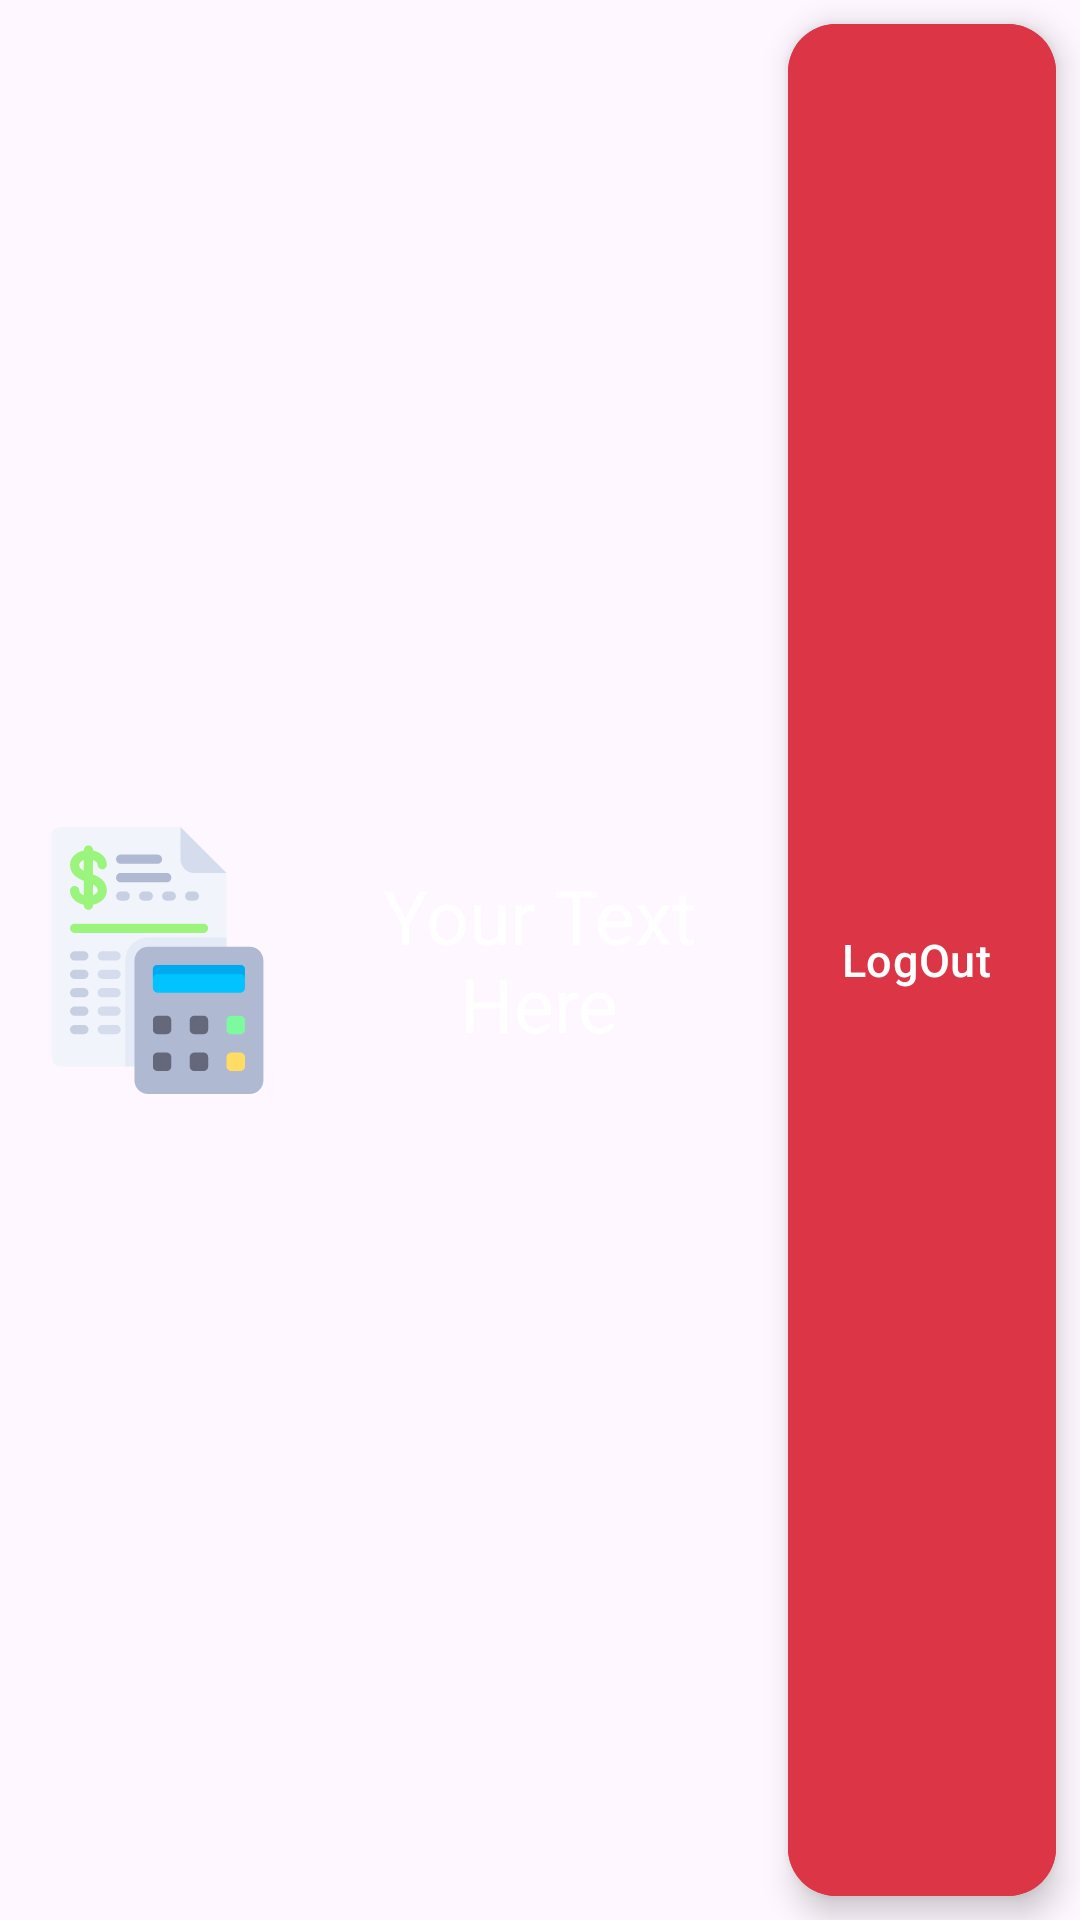

Point at icon controls on the screen. Image size 1080w x 1920h, points as (x=x, y=y).
budget app: (x=167, y=961)
